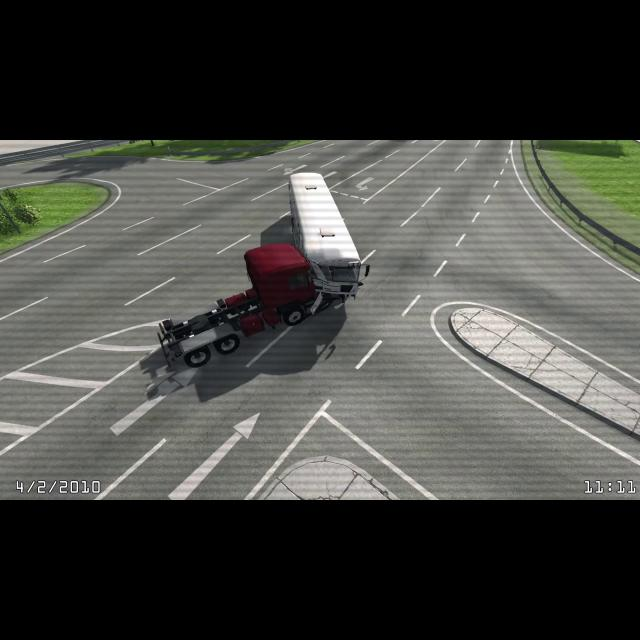accident: (162, 168, 374, 373)
